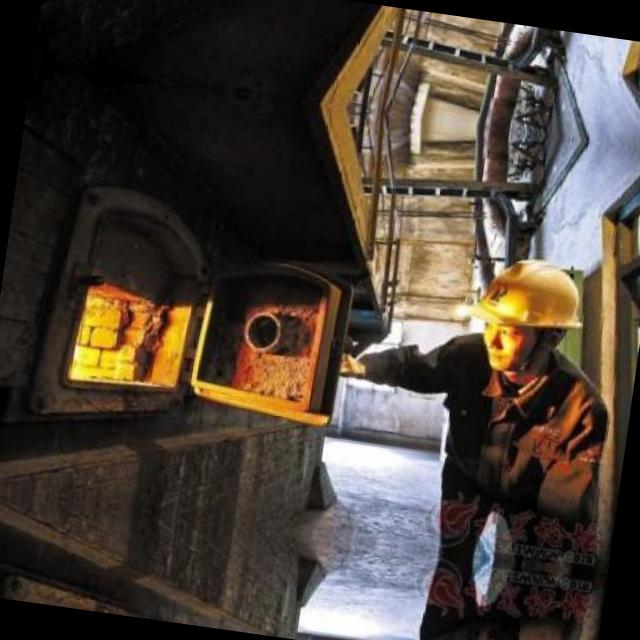helmet: (462, 242, 596, 384)
